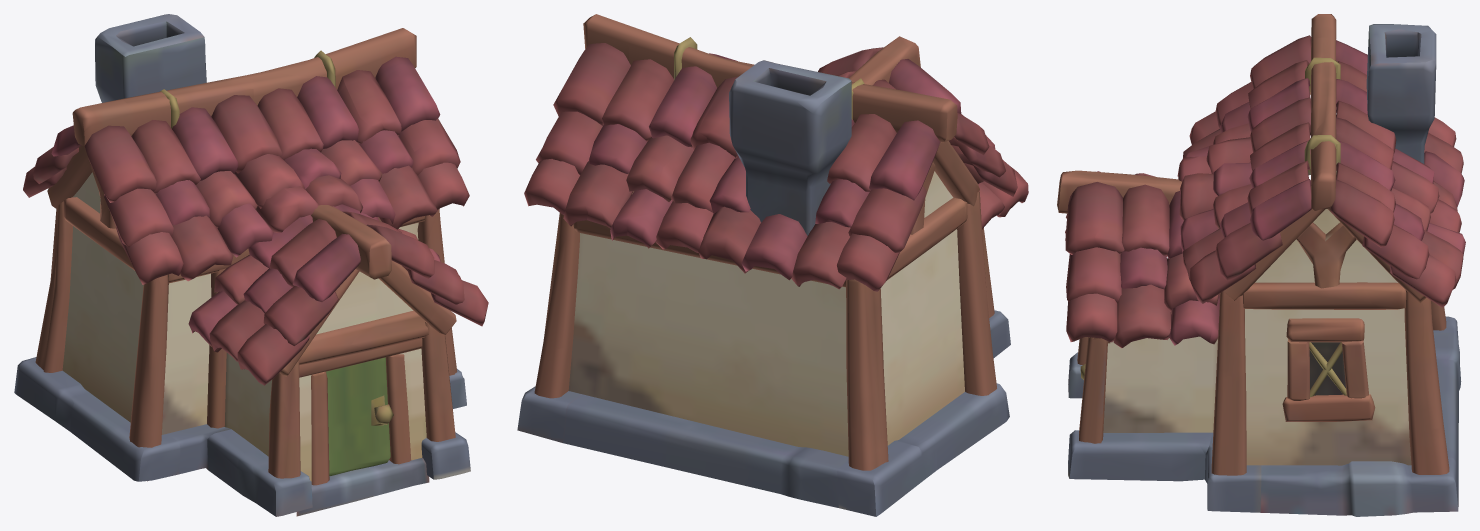
Rendered from SM_House_04.glb.
The picture shows the model from 3 angles, left to right: view 1: azimuth 30°, elevation 25°; view 2: azimuth 150°, elevation 25°; view 3: azimuth 270°, elevation 25°; orthographic projection. The views are drawn at different scales.
Visible parts, largest first — view 1: SM_House_04; view 2: SM_House_04; view 3: SM_House_04.
Part boxes in pixels (bbox=[...]): SM_House_04: bbox=[14, 14, 488, 516]; SM_House_04: bbox=[517, 14, 1028, 516]; SM_House_04: bbox=[1057, 14, 1465, 516].
Bounding box in the file's own units: 3.76 × 3.81 × 3.83.
Materials: 1 (1 with a texture image).
